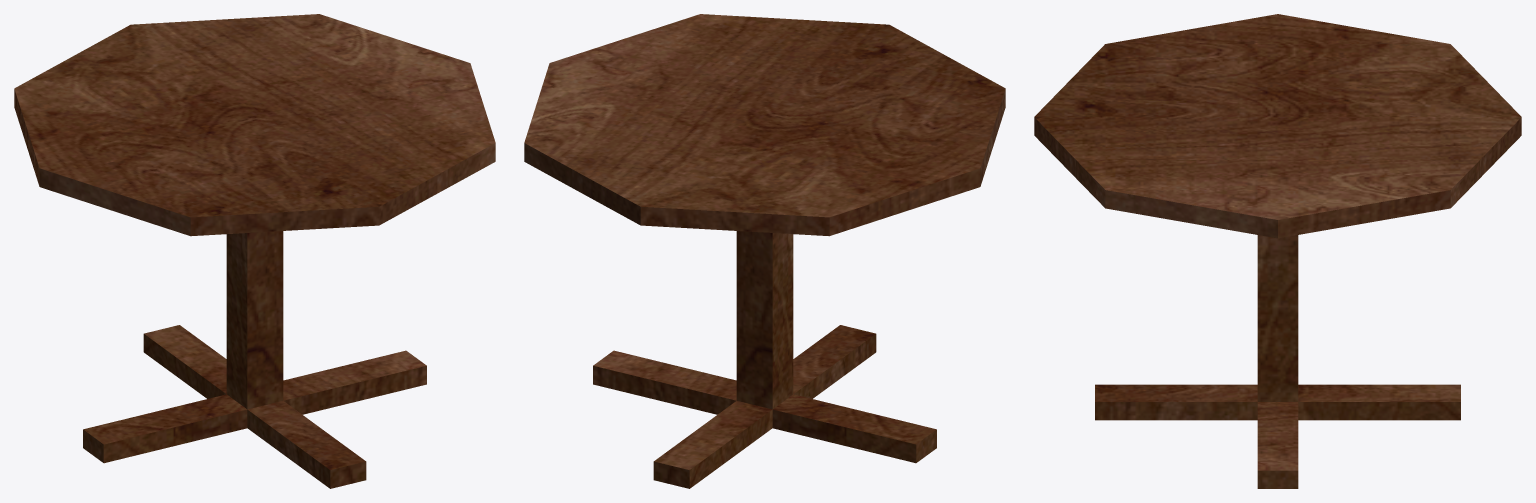
Rendered from sourcedinertable.fbx.
3 renders of one model, left to right at view 1: azimuth 30°, elevation 25°; view 2: azimuth 150°, elevation 25°; view 3: azimuth 270°, elevation 25°, orthographic. The views are drawn at different scales.
Visible parts, largest first — view 1: worldspawn_0_9636.001, func_detail_22531_22532.001, worldspawn_0_9622.001, func_detail_22323_22324.001, func_detail_22443_22444.001; view 2: worldspawn_0_9636.001, func_detail_22531_22532.001, worldspawn_0_9622.001, func_detail_22443_22444.001, func_detail_22323_22324.001; view 3: worldspawn_0_9636.001, worldspawn_0_9622.001, func_detail_22323_22324.001, func_detail_22443_22444.001, func_detail_22531_22532.001.
Boxes of the visible parts, x1=… form: worldspawn_0_9636.001: x1=14, y1=14, x2=495, y2=236; func_detail_22531_22532.001: x1=83, y1=350, x2=426, y2=463; worldspawn_0_9622.001: x1=226, y1=231, x2=283, y2=409; func_detail_22323_22324.001: x1=247, y1=401, x2=366, y2=488; func_detail_22443_22444.001: x1=143, y1=325, x2=226, y2=398; worldspawn_0_9636.001: x1=524, y1=14, x2=1005, y2=236; func_detail_22531_22532.001: x1=593, y1=350, x2=936, y2=463; worldspawn_0_9622.001: x1=736, y1=231, x2=793, y2=409; func_detail_22443_22444.001: x1=653, y1=401, x2=772, y2=488; func_detail_22323_22324.001: x1=793, y1=325, x2=876, y2=398; worldspawn_0_9636.001: x1=1034, y1=14, x2=1521, y2=238; worldspawn_0_9622.001: x1=1257, y1=235, x2=1298, y2=401; func_detail_22323_22324.001: x1=1095, y1=384, x2=1257, y2=420; func_detail_22443_22444.001: x1=1298, y1=384, x2=1460, y2=420; func_detail_22531_22532.001: x1=1257, y1=402, x2=1298, y2=488.
Bounding box in the file's own units: 48 × 32 × 47.99.
Materials: 1 (1 with a texture image).
